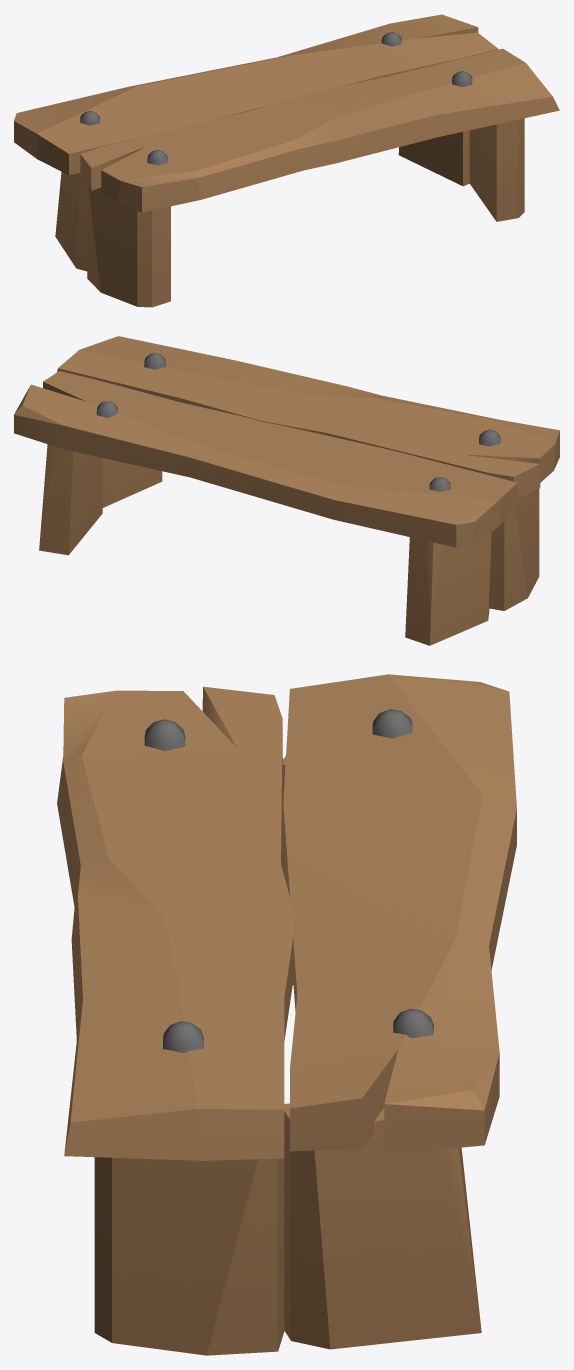
The model's file is Bench_D.fbx.
3 views of the same model, one above another, from view 1: azimuth 30°, elevation 25°; view 2: azimuth 150°, elevation 25°; view 3: azimuth 270°, elevation 25° (orthographic). The views are drawn at different scales.
Visible parts, largest first — view 1: Bench_D; view 2: Bench_D; view 3: Bench_D.
Boxes of the visible parts, left/top/right/bottom form: Bench_D: left=14, top=14, right=559, bottom=307; Bench_D: left=14, top=336, right=559, bottom=645; Bench_D: left=57, top=674, right=516, bottom=1355.
Bounding box in the file's own units: 174 × 51.47 × 77.56.
